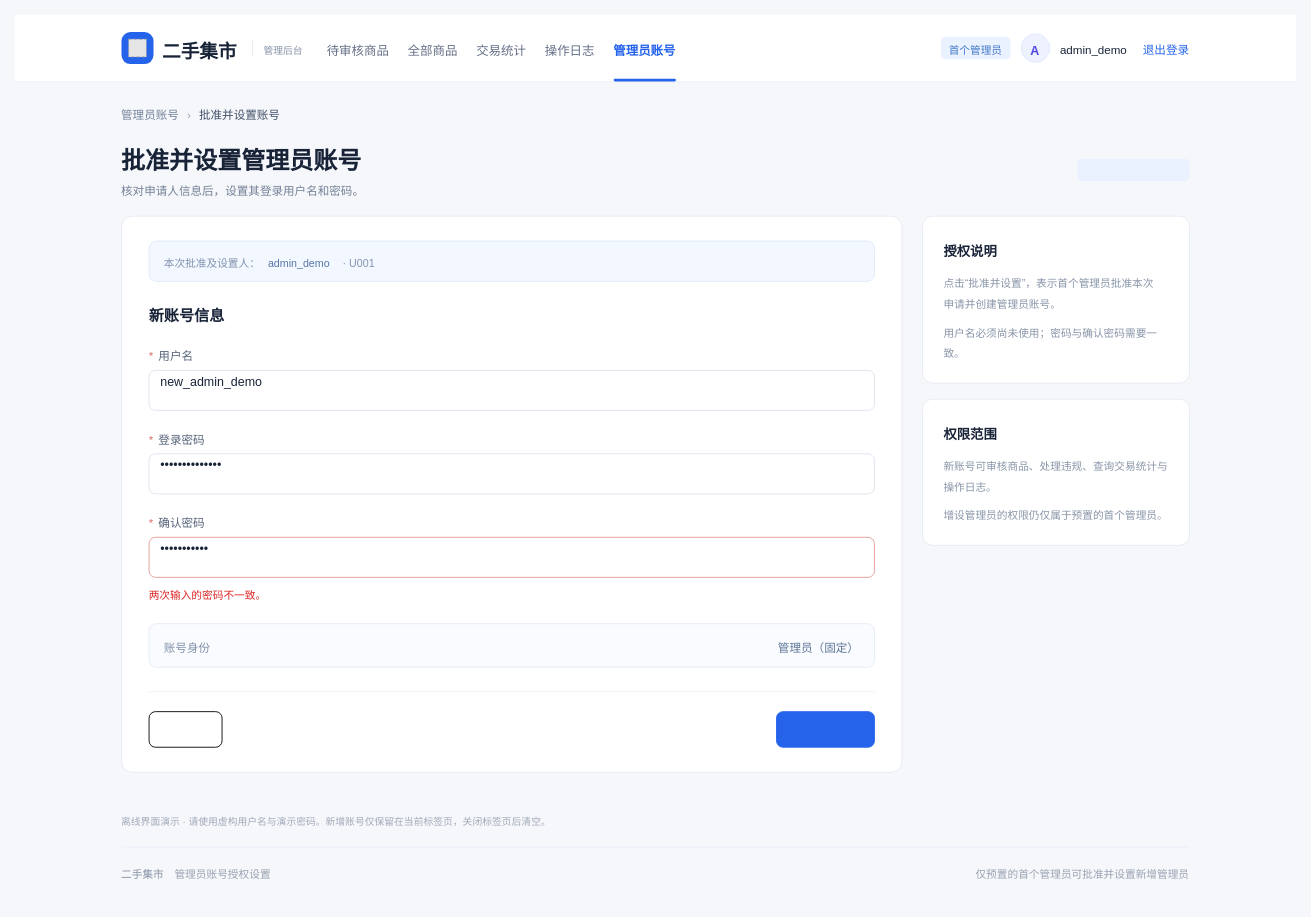
This 1311x917 diagram has some shape labels left out. Grey dashed boxes stand in for pictures. The centre of each missing label's shape, as x and y in pixels:
"仅首个管理员可操作" belongs at point 1133,169.
"批准并设置" belongs at point 825,729.
"返回列表" belongs at point 185,729.
